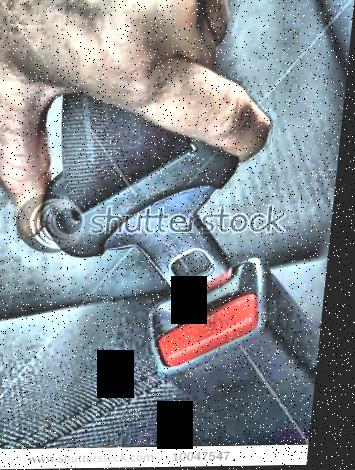seatbelt: (18, 77, 310, 397)
